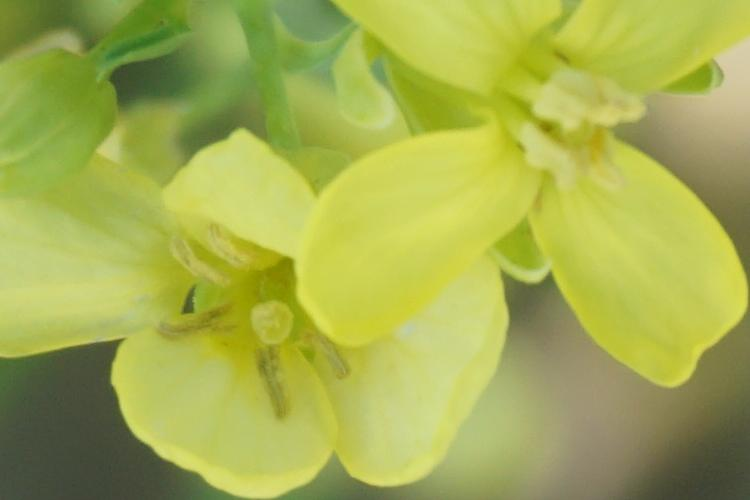bud: (1, 43, 131, 197)
yellow: (3, 137, 514, 488), (329, 4, 750, 427)
